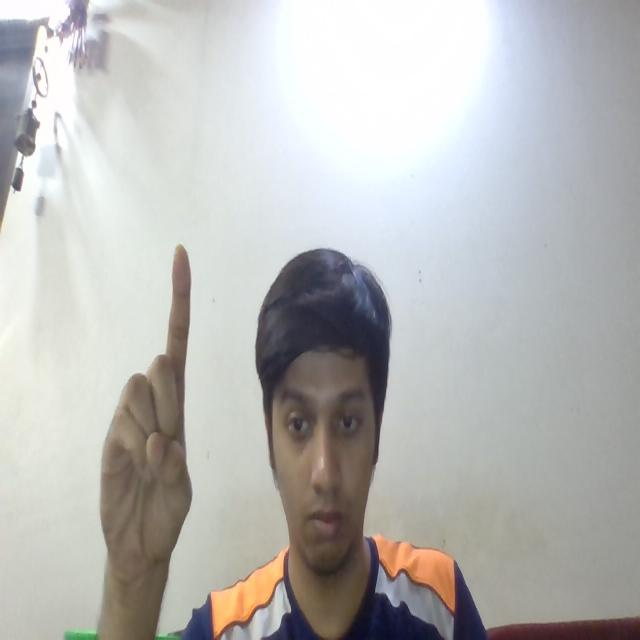Z: (77, 202, 217, 599)
